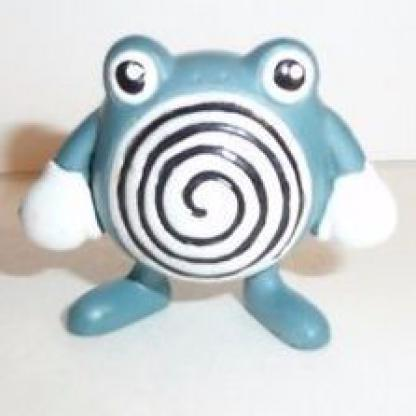Poliwhirl: (35, 37, 393, 357)
